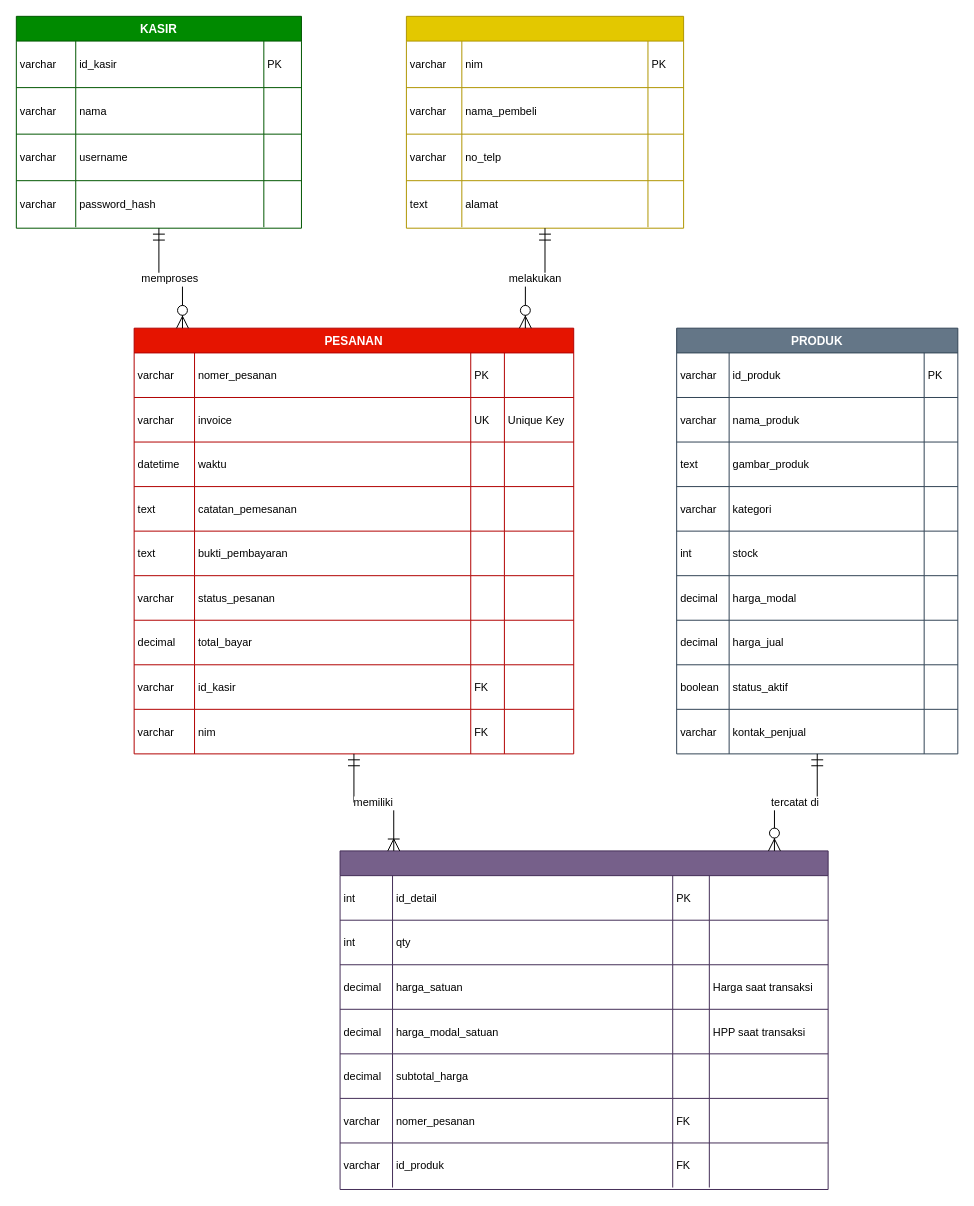
This 974x1206 diagram has some shape labels left out. Here are the shapes that lost their labels. From the top down, the box of each, then its label:
(405, 15, 684, 228): PELANGGAN
(339, 850, 828, 1189): DETAIL_PESANAN
